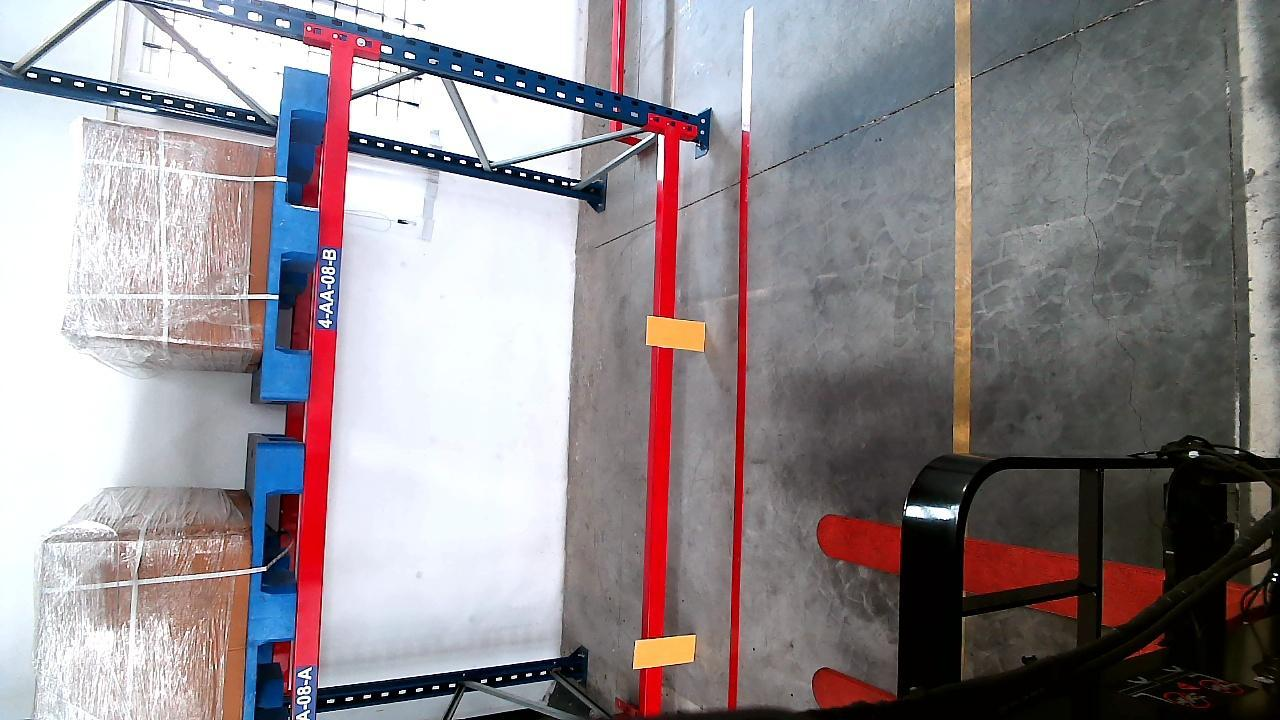red_line: (725, 125, 753, 708)
yellow_line: (952, 0, 976, 444)
